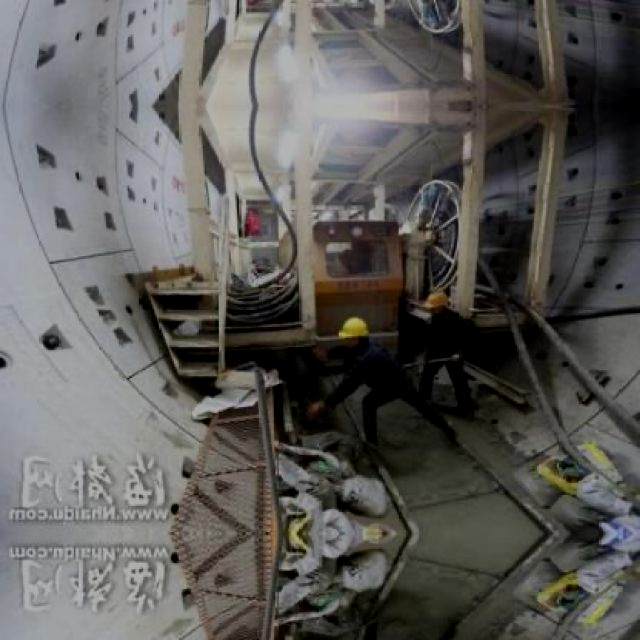helmet: (271, 313, 300, 352), (189, 288, 211, 313)
person: (194, 315, 328, 444), (166, 285, 220, 407)
